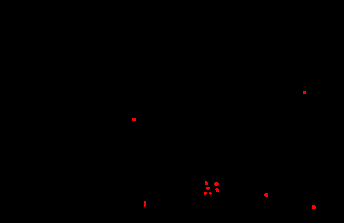Target: (214, 182, 219, 186), (215, 188, 219, 192), (264, 193, 268, 197), (312, 205, 316, 209), (132, 118, 136, 121), (205, 181, 208, 185), (206, 187, 210, 190), (144, 201, 146, 207), (303, 91, 306, 94), (204, 192, 207, 195), (209, 192, 212, 195)
